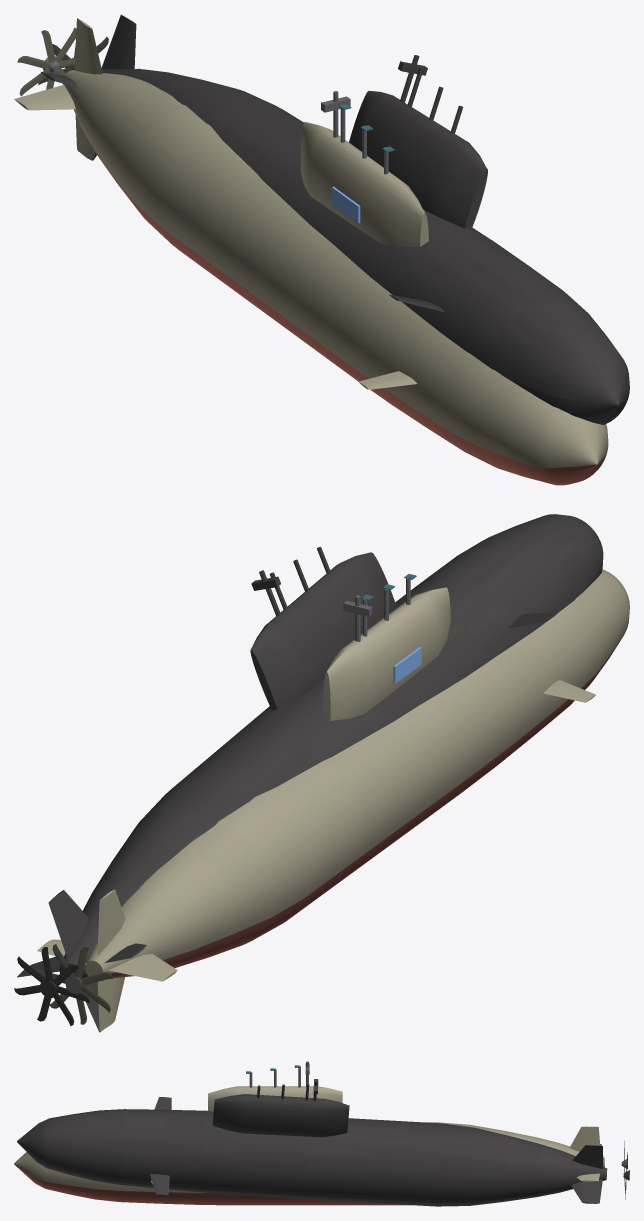
File: submarine__improved_kilo.glb
The picture shows the model from 3 angles, top to bottom: view 1: azimuth 30°, elevation 25°; view 2: azimuth 150°, elevation 25°; view 3: azimuth 270°, elevation 25°; orthographic projection. The views are drawn at different scales.
Visible parts, largest first — view 1: Hull_Mesh, Wreck; view 2: Hull_Mesh, Wreck; view 3: Wreck, Hull_Mesh.
Boxes of the visible parts, x1,y1,x2,y2 form: Hull_Mesh: (14, 18, 608, 485); Wreck: (38, 14, 629, 424); Hull_Mesh: (37, 569, 629, 1031); Wreck: (14, 514, 603, 1032); Wreck: (17, 1079, 629, 1206); Hull_Mesh: (14, 1065, 627, 1205).
Size of what is drawn, in the model's own units: 17.36 by 19.01 by 73.07.
